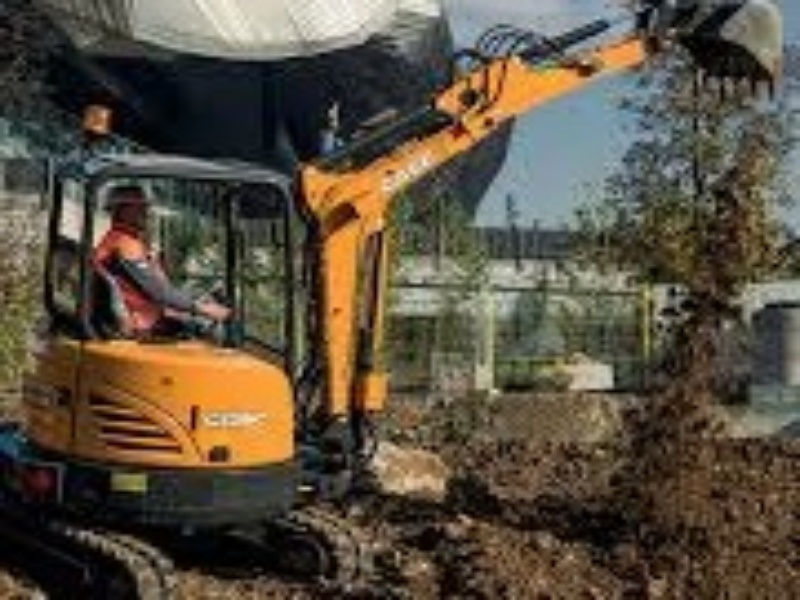wajueji: (8, 115, 494, 600)
